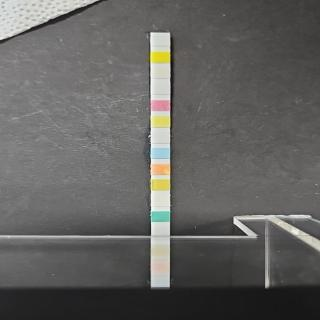mark: (151, 194, 169, 207), (152, 179, 170, 191), (152, 163, 170, 175), (152, 146, 170, 158), (152, 130, 170, 142), (152, 115, 170, 127), (152, 100, 170, 112), (152, 66, 170, 78), (152, 82, 169, 94), (152, 211, 170, 222), (152, 51, 170, 62), (152, 35, 169, 46)
